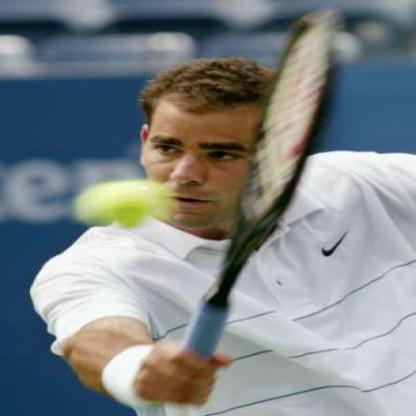face: (138, 72, 284, 233)
